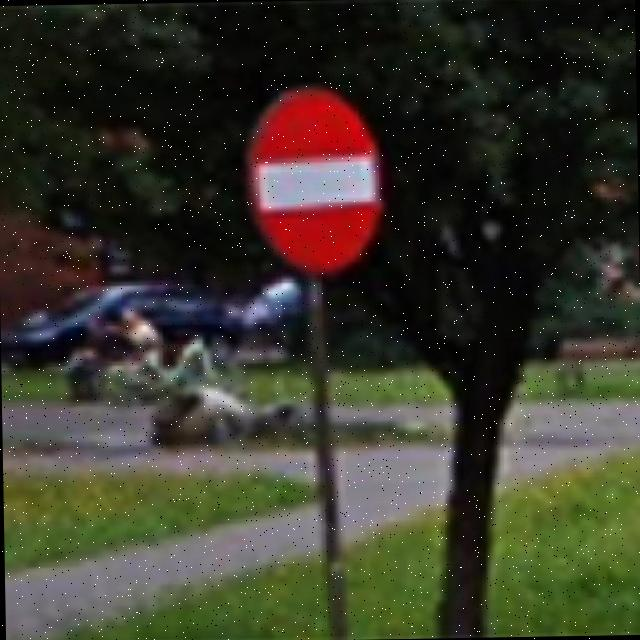Zakaz wjazdu: (244, 83, 384, 280)
